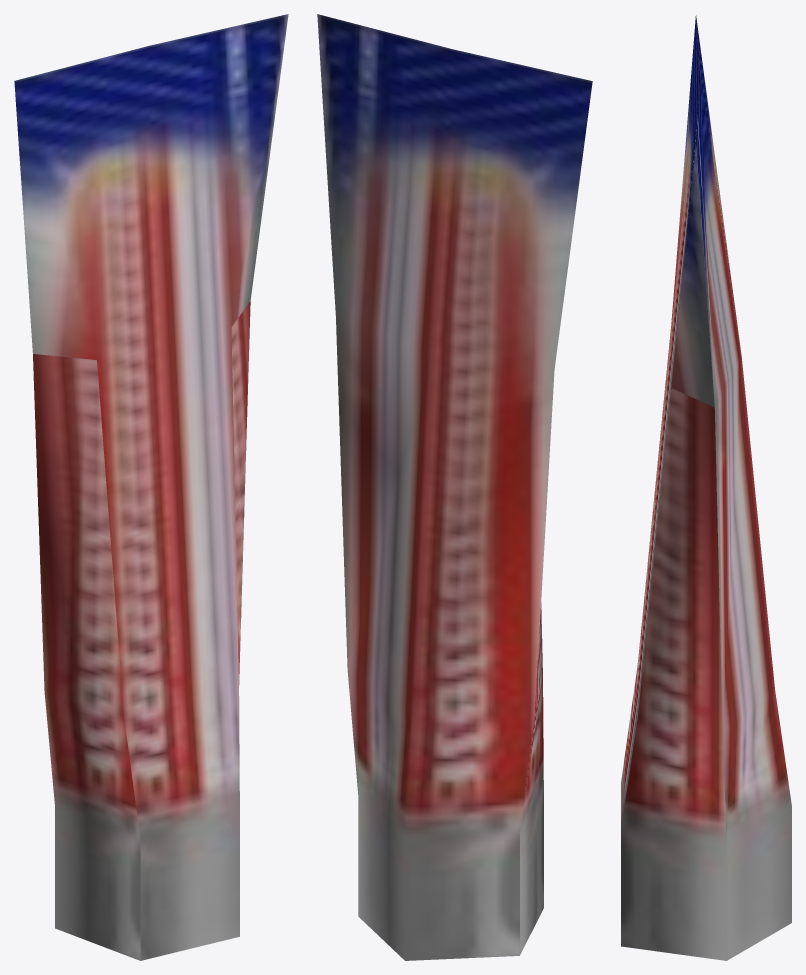
File: toothpaste_03.glb
The picture shows the model from 3 angles, left to right: view 1: azimuth 30°, elevation 25°; view 2: azimuth 150°, elevation 25°; view 3: azimuth 270°, elevation 25°; orthographic projection. The views are drawn at different scales.
Parts seen in each view (by area): view 1: toothpaste_03; view 2: toothpaste_03; view 3: toothpaste_03.
Part boxes in pixels (x1,y1,x2,y2): toothpaste_03: (14,14,288,960); toothpaste_03: (317,14,592,960); toothpaste_03: (621,15,791,960).
Bounding box in the file's own units: 0.0723 × 0.2201 × 0.0404.
Materials: 1 (1 with a texture image).
